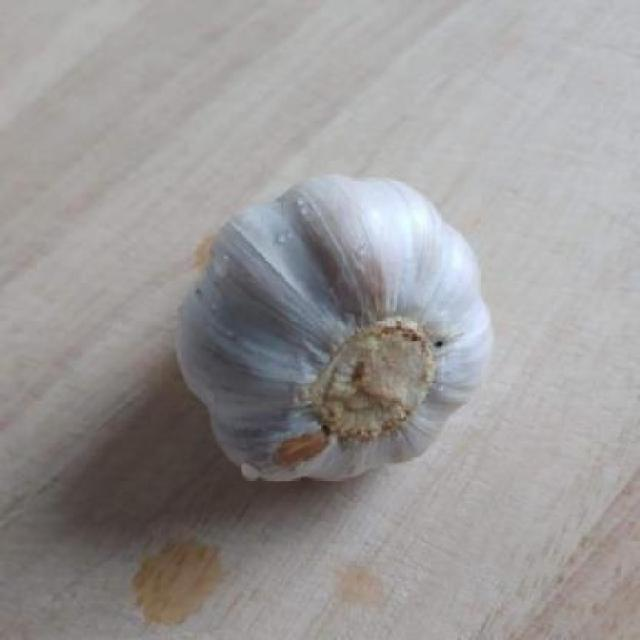garlic: (171, 173, 498, 490)
